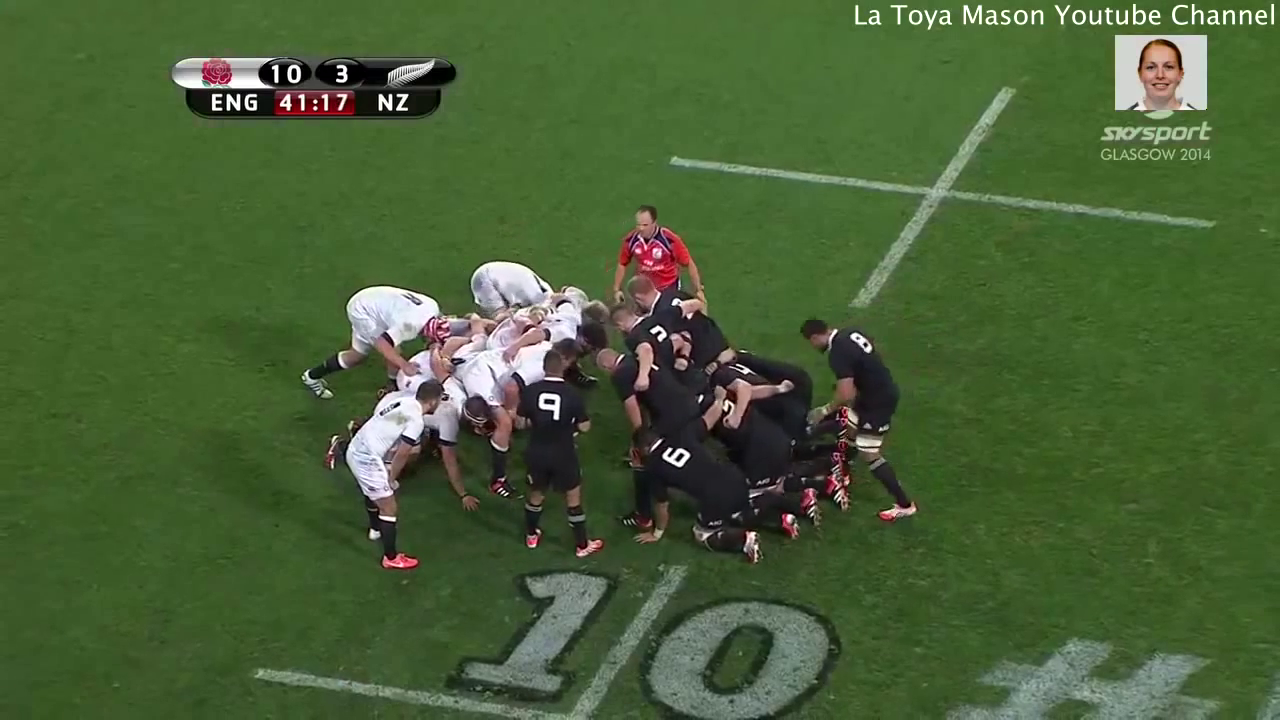player: (796, 312, 932, 527), (342, 374, 454, 579), (293, 283, 442, 399), (521, 349, 602, 561), (614, 194, 690, 282)
scrum: (334, 251, 836, 562)
